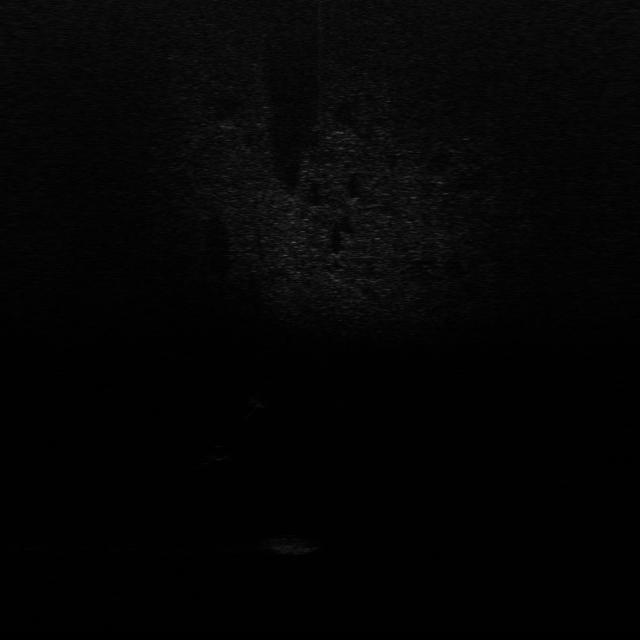ball: (204, 443, 234, 464)
circle cage: (263, 531, 323, 558)
